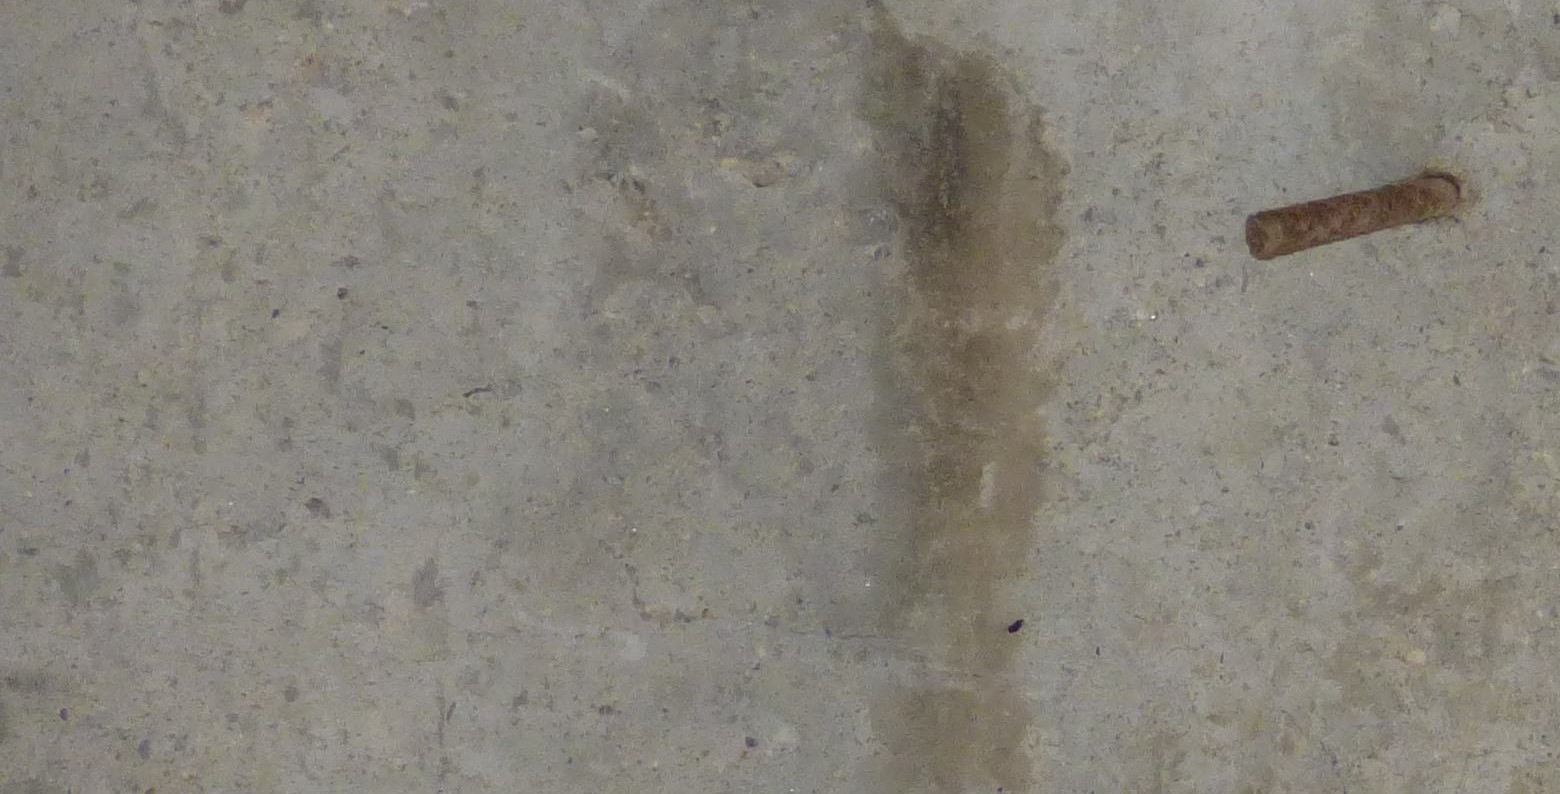Corrosion: (863, 1, 1071, 794)
Exposed reinforcement: (1243, 178, 1460, 262)
